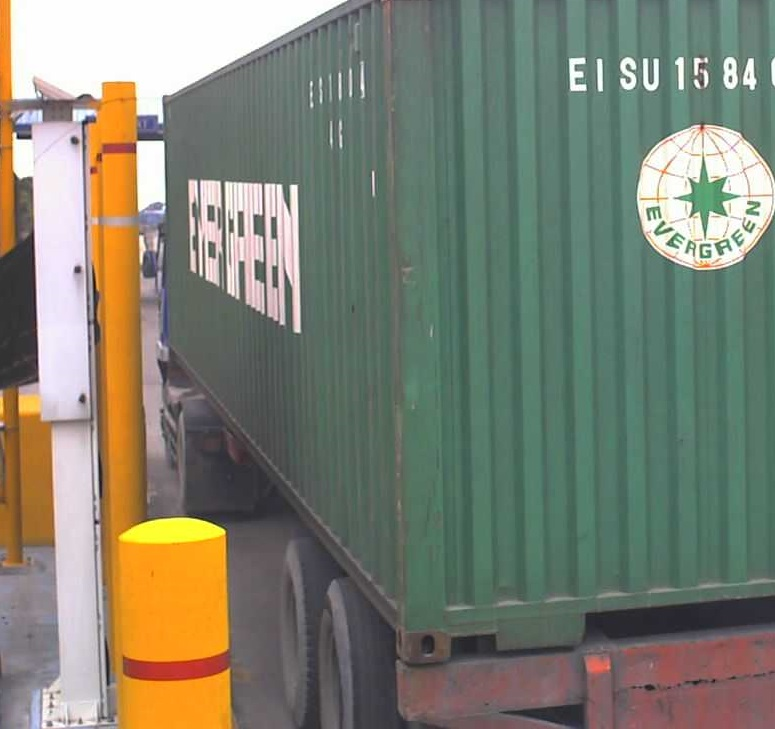container_no_door: (388, 1, 772, 661)
